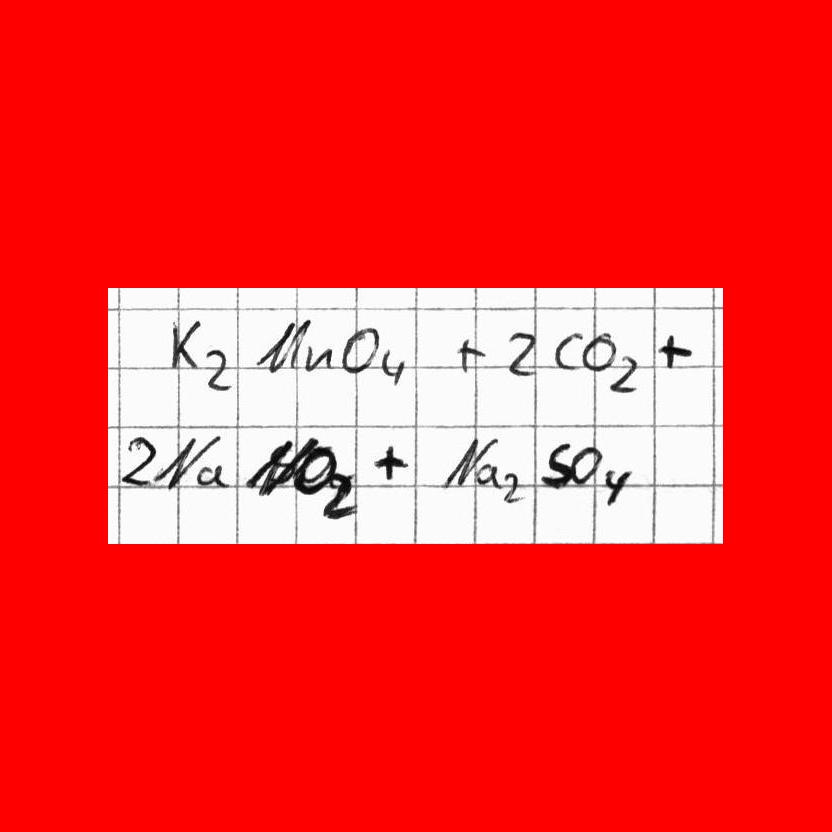Char: (153, 434, 208, 491), (247, 439, 296, 496), (255, 317, 303, 373), (442, 437, 488, 492), (293, 445, 338, 496), (118, 434, 160, 488), (502, 328, 540, 380), (167, 316, 201, 373), (340, 324, 378, 372), (324, 469, 358, 522), (538, 440, 573, 490), (370, 441, 409, 483), (656, 329, 693, 370), (581, 330, 617, 371), (568, 443, 600, 489), (454, 335, 487, 376), (607, 354, 640, 394), (551, 329, 582, 371), (203, 346, 231, 392), (603, 465, 631, 509), (192, 460, 232, 490), (380, 346, 406, 383), (304, 343, 333, 372), (502, 469, 524, 504), (475, 462, 500, 488)
